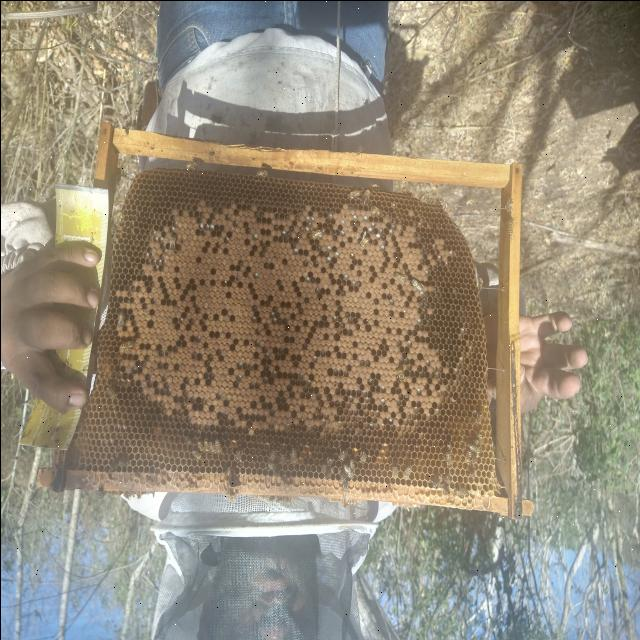cria: (114, 191, 486, 445)
marco: (65, 142, 507, 495)
